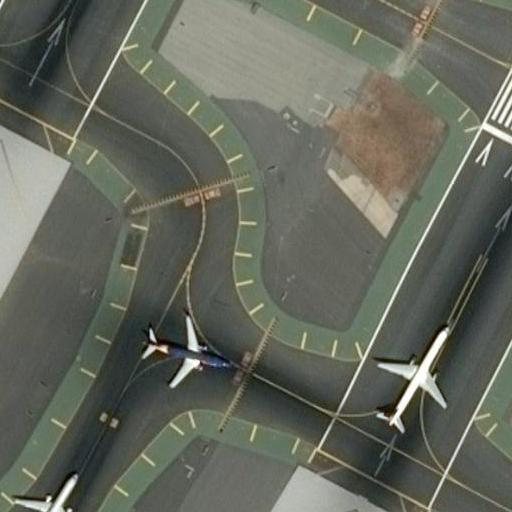Aircraft: (372, 325, 449, 430), (139, 310, 234, 387), (9, 466, 86, 512)
